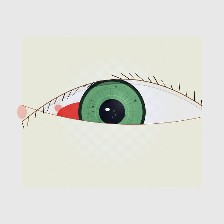hemorrhage_spot: (44, 82, 133, 153)
